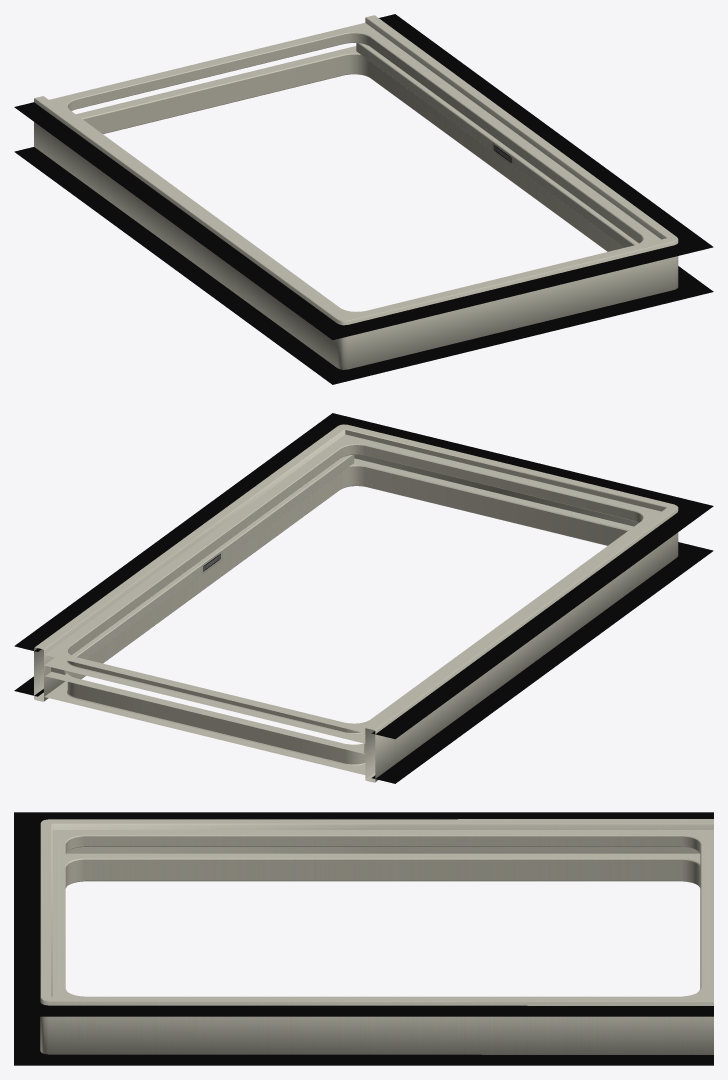
Rendered from nt_2020_doorframe_white_LOD0.obj.
3 views of the same model, one above another, from view 1: azimuth 30°, elevation 25°; view 2: azimuth 150°, elevation 25°; view 3: azimuth 270°, elevation 25° (orthographic). The views are drawn at different scales.
Visible parts, largest first — view 1: nt_2020_plastic_cream, ao_decal_ramp; view 2: nt_2020_plastic_cream, ao_decal_ramp; view 3: nt_2020_plastic_cream, ao_decal_ramp.
Boxes of the visible parts, x1,y1,x2,y2 form: nt_2020_plastic_cream: (34,15,678,369); ao_decal_ramp: (14,14,713,384); nt_2020_plastic_cream: (34,424,678,782); ao_decal_ramp: (14,413,713,783); nt_2020_plastic_cream: (40,819,713,1054); ao_decal_ramp: (14,812,713,1065).
Size of the model in its own units: 193 by 25.4 by 279.
